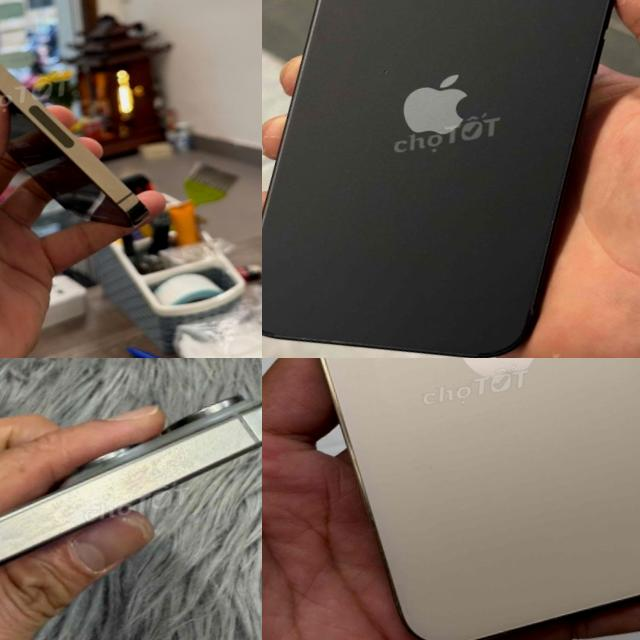gen_12_13: (262, 0, 640, 358), (319, 358, 640, 640)
gen_14: (0, 0, 162, 277)
gen_15: (0, 376, 262, 633)
